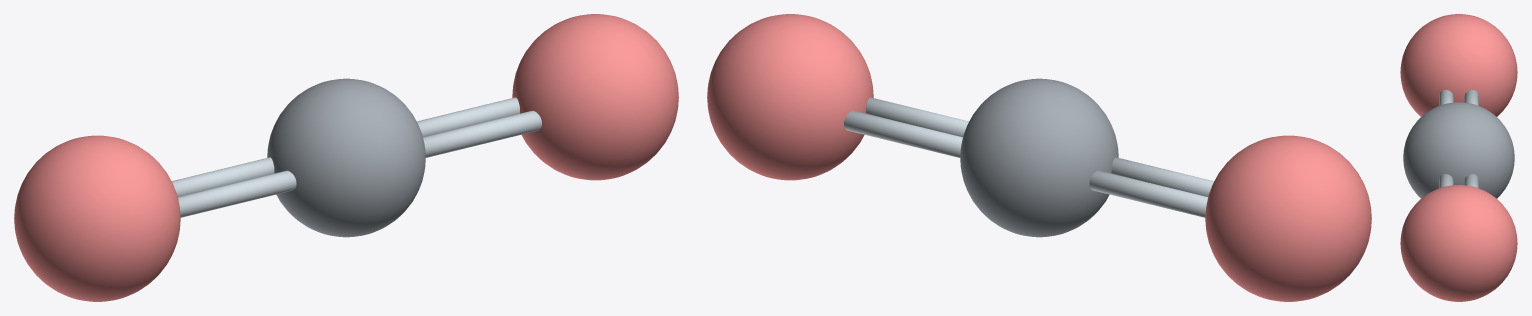
3 views of the same model, side by side, from view 1: azimuth 30°, elevation 25°; view 2: azimuth 150°, elevation 25°; view 3: azimuth 270°, elevation 25° (orthographic). The views are drawn at different scales.
Visible parts, largest first — view 1: O, O.001, C, bond.003, bond, bond.002, bond.001; view 2: O, O.001, C, bond.002, bond.001, bond.003, bond; view 3: O.001, O, C, bond, bond.001, bond.002, bond.003.
Part boxes in pixels (left/top/right/bottom): O: left=14, top=135, right=180, bottom=301; O.001: left=512, top=14, right=678, bottom=180; C: left=267, top=78, right=425, bottom=237; bond.003: left=423, top=110, right=541, bottom=157; bond: left=177, top=170, right=296, bottom=217; bond.002: left=417, top=97, right=519, bottom=137; bond.001: left=172, top=157, right=274, bottom=196; O: left=1205, top=135, right=1371, bottom=301; O.001: left=707, top=14, right=873, bottom=180; C: left=960, top=78, right=1118, bottom=237; bond.002: left=844, top=110, right=962, bottom=157; bond.001: left=1089, top=170, right=1208, bottom=217; bond.003: left=866, top=97, right=968, bottom=137; bond: left=1111, top=157, right=1213, bottom=196; O.001: left=1400, top=185, right=1517, bottom=301; O: left=1400, top=14, right=1517, bottom=116; C: left=1403, top=102, right=1514, bottom=198; bond: left=1439, top=89, right=1453, bottom=105; bond.001: left=1464, top=89, right=1478, bottom=105; bond.002: left=1464, top=174, right=1478, bottom=188; bond.003: left=1439, top=174, right=1453, bottom=188.
Size of the model in its own units: 3.74 by 0.84 by 0.84.
